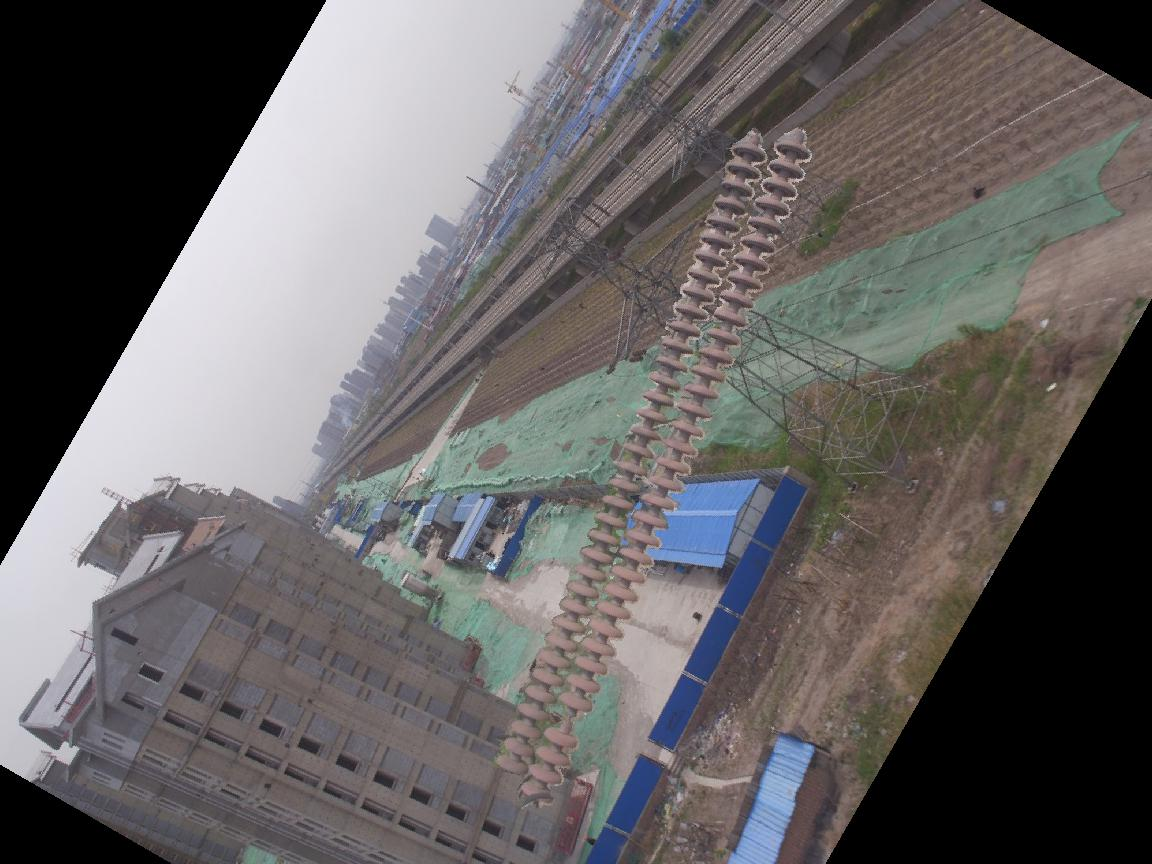insulator: (493, 125, 820, 812)
insulator_stringdrop: (540, 690, 594, 751)
